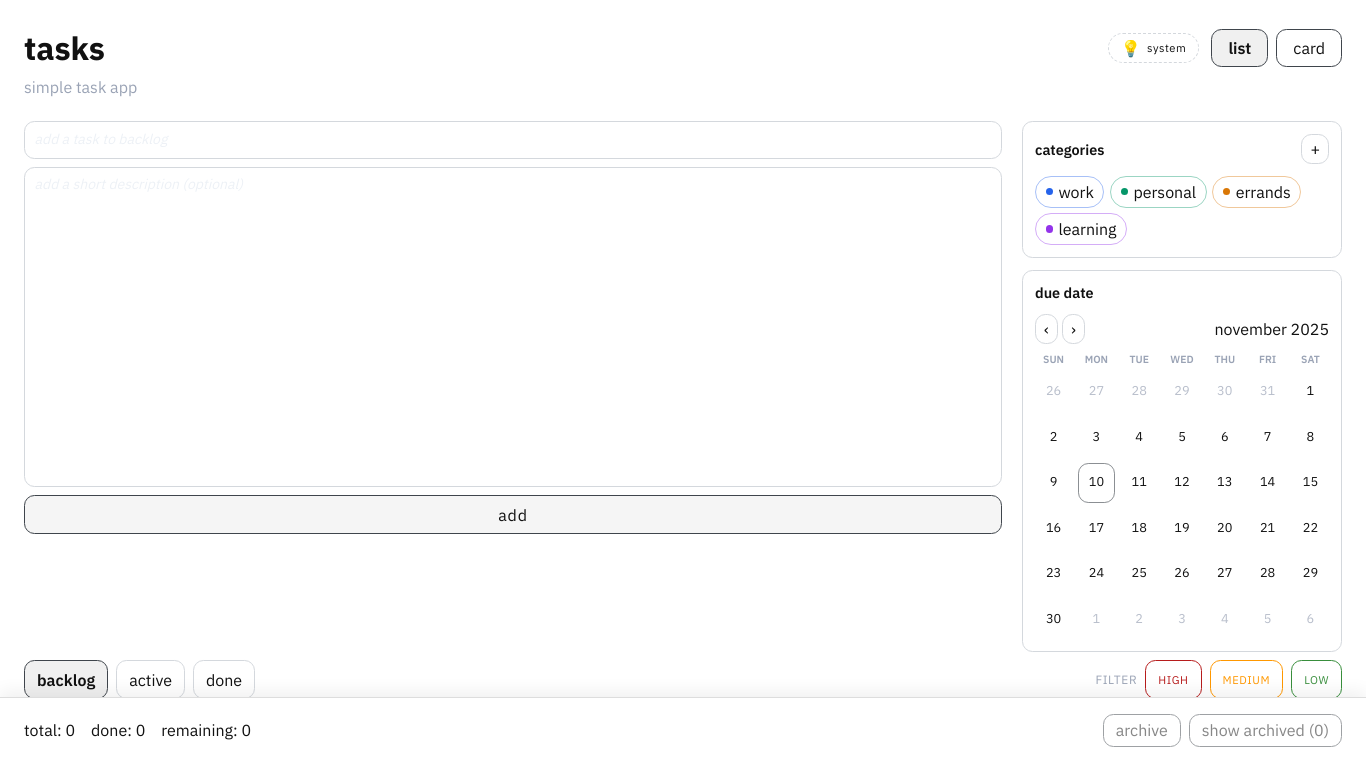
Test: App › allows assigning existing categories to new todos
In the field with placeholder "add a task to backlog": (513,140) [24, 121, 1002, 159], type "categorised task"
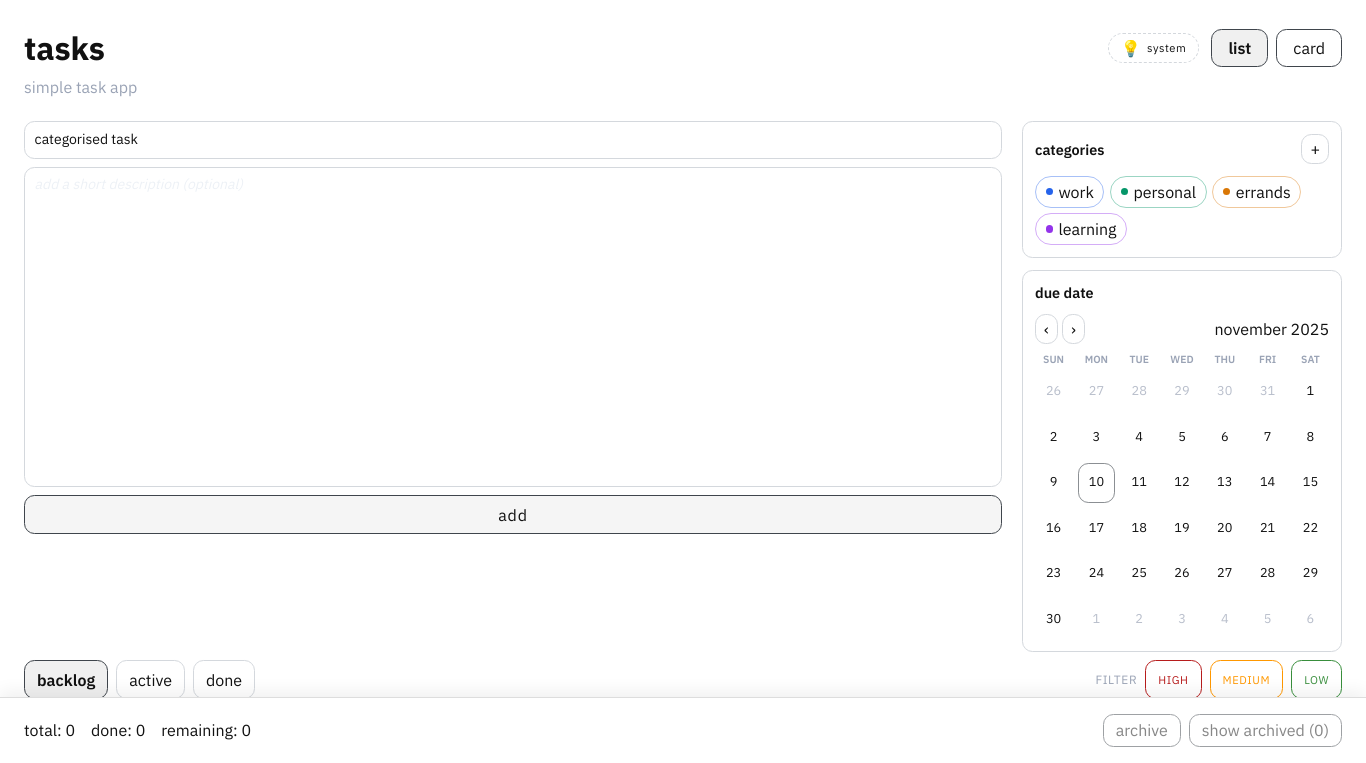
Click the button named "select": (1054,391) [1035, 371, 1072, 411]
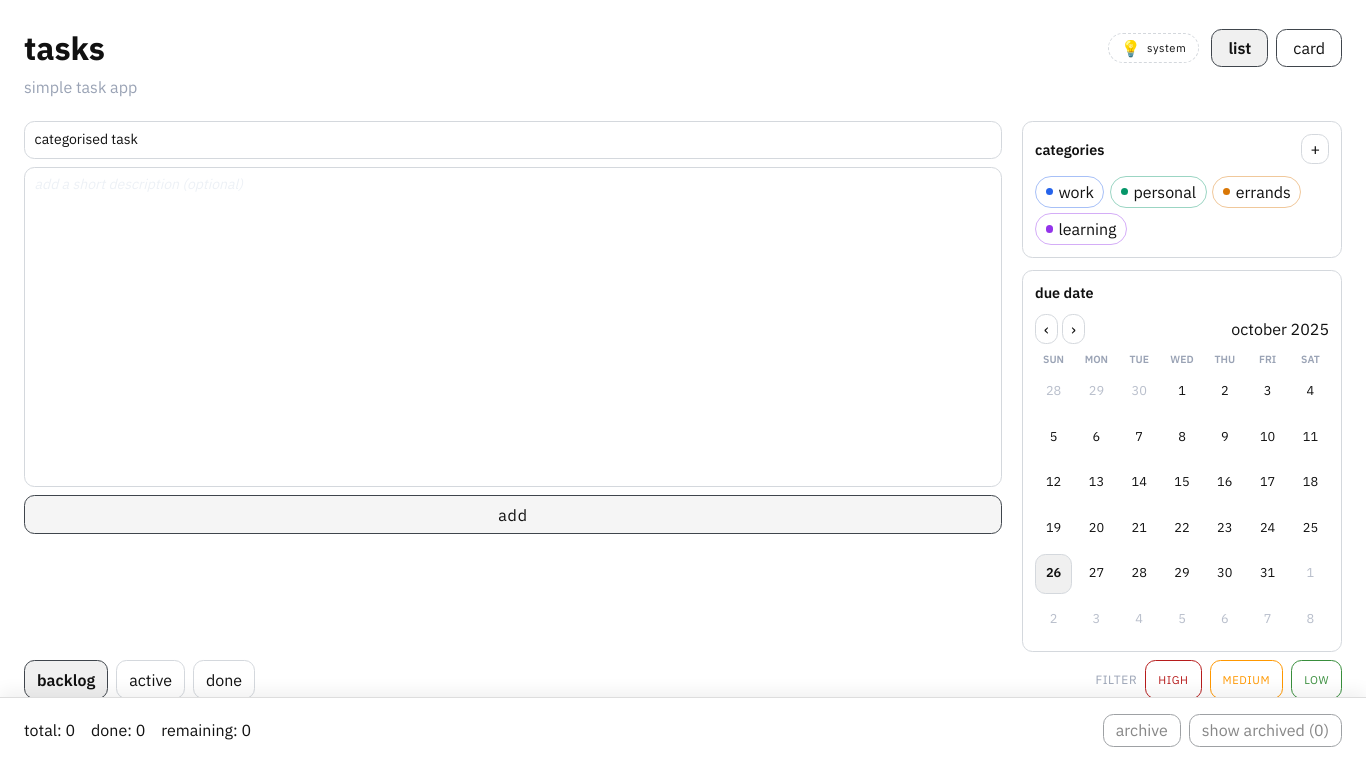
Click the button "work": (1070,192) [1035, 176, 1104, 208]
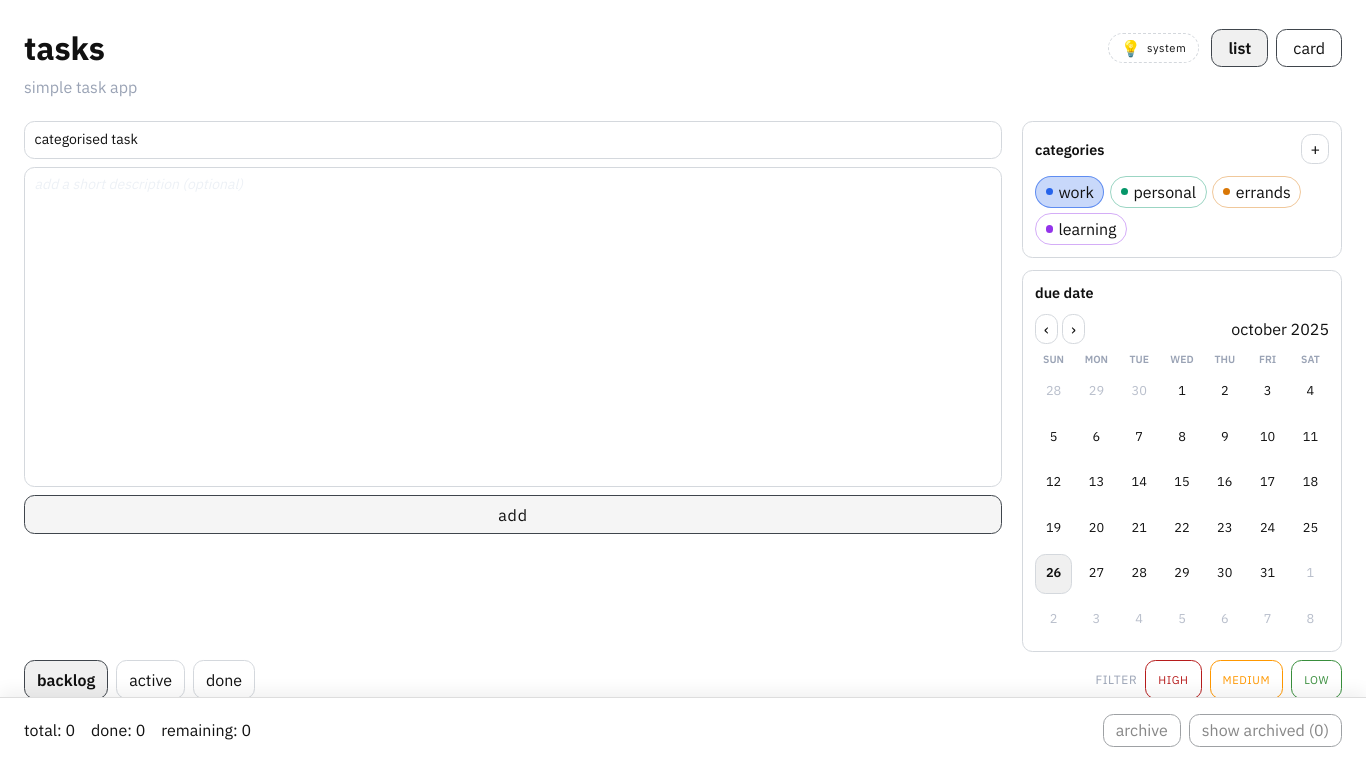
Click the button "add": (513,515) [24, 495, 1002, 534]
(page scrolled)
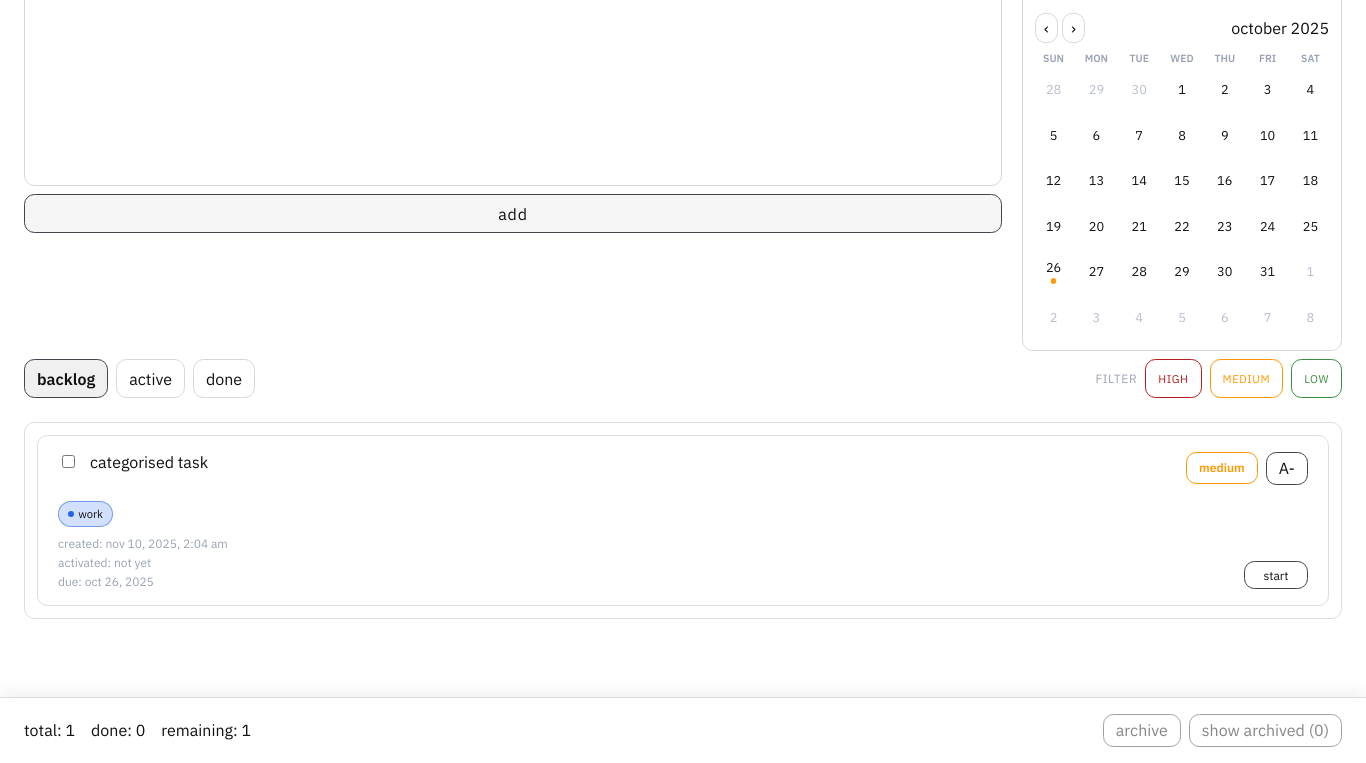
Check: the list item "categorised task" is shown, box [90, 452, 208, 472]
Check: the text "work" is shown, box [58, 501, 113, 526]
